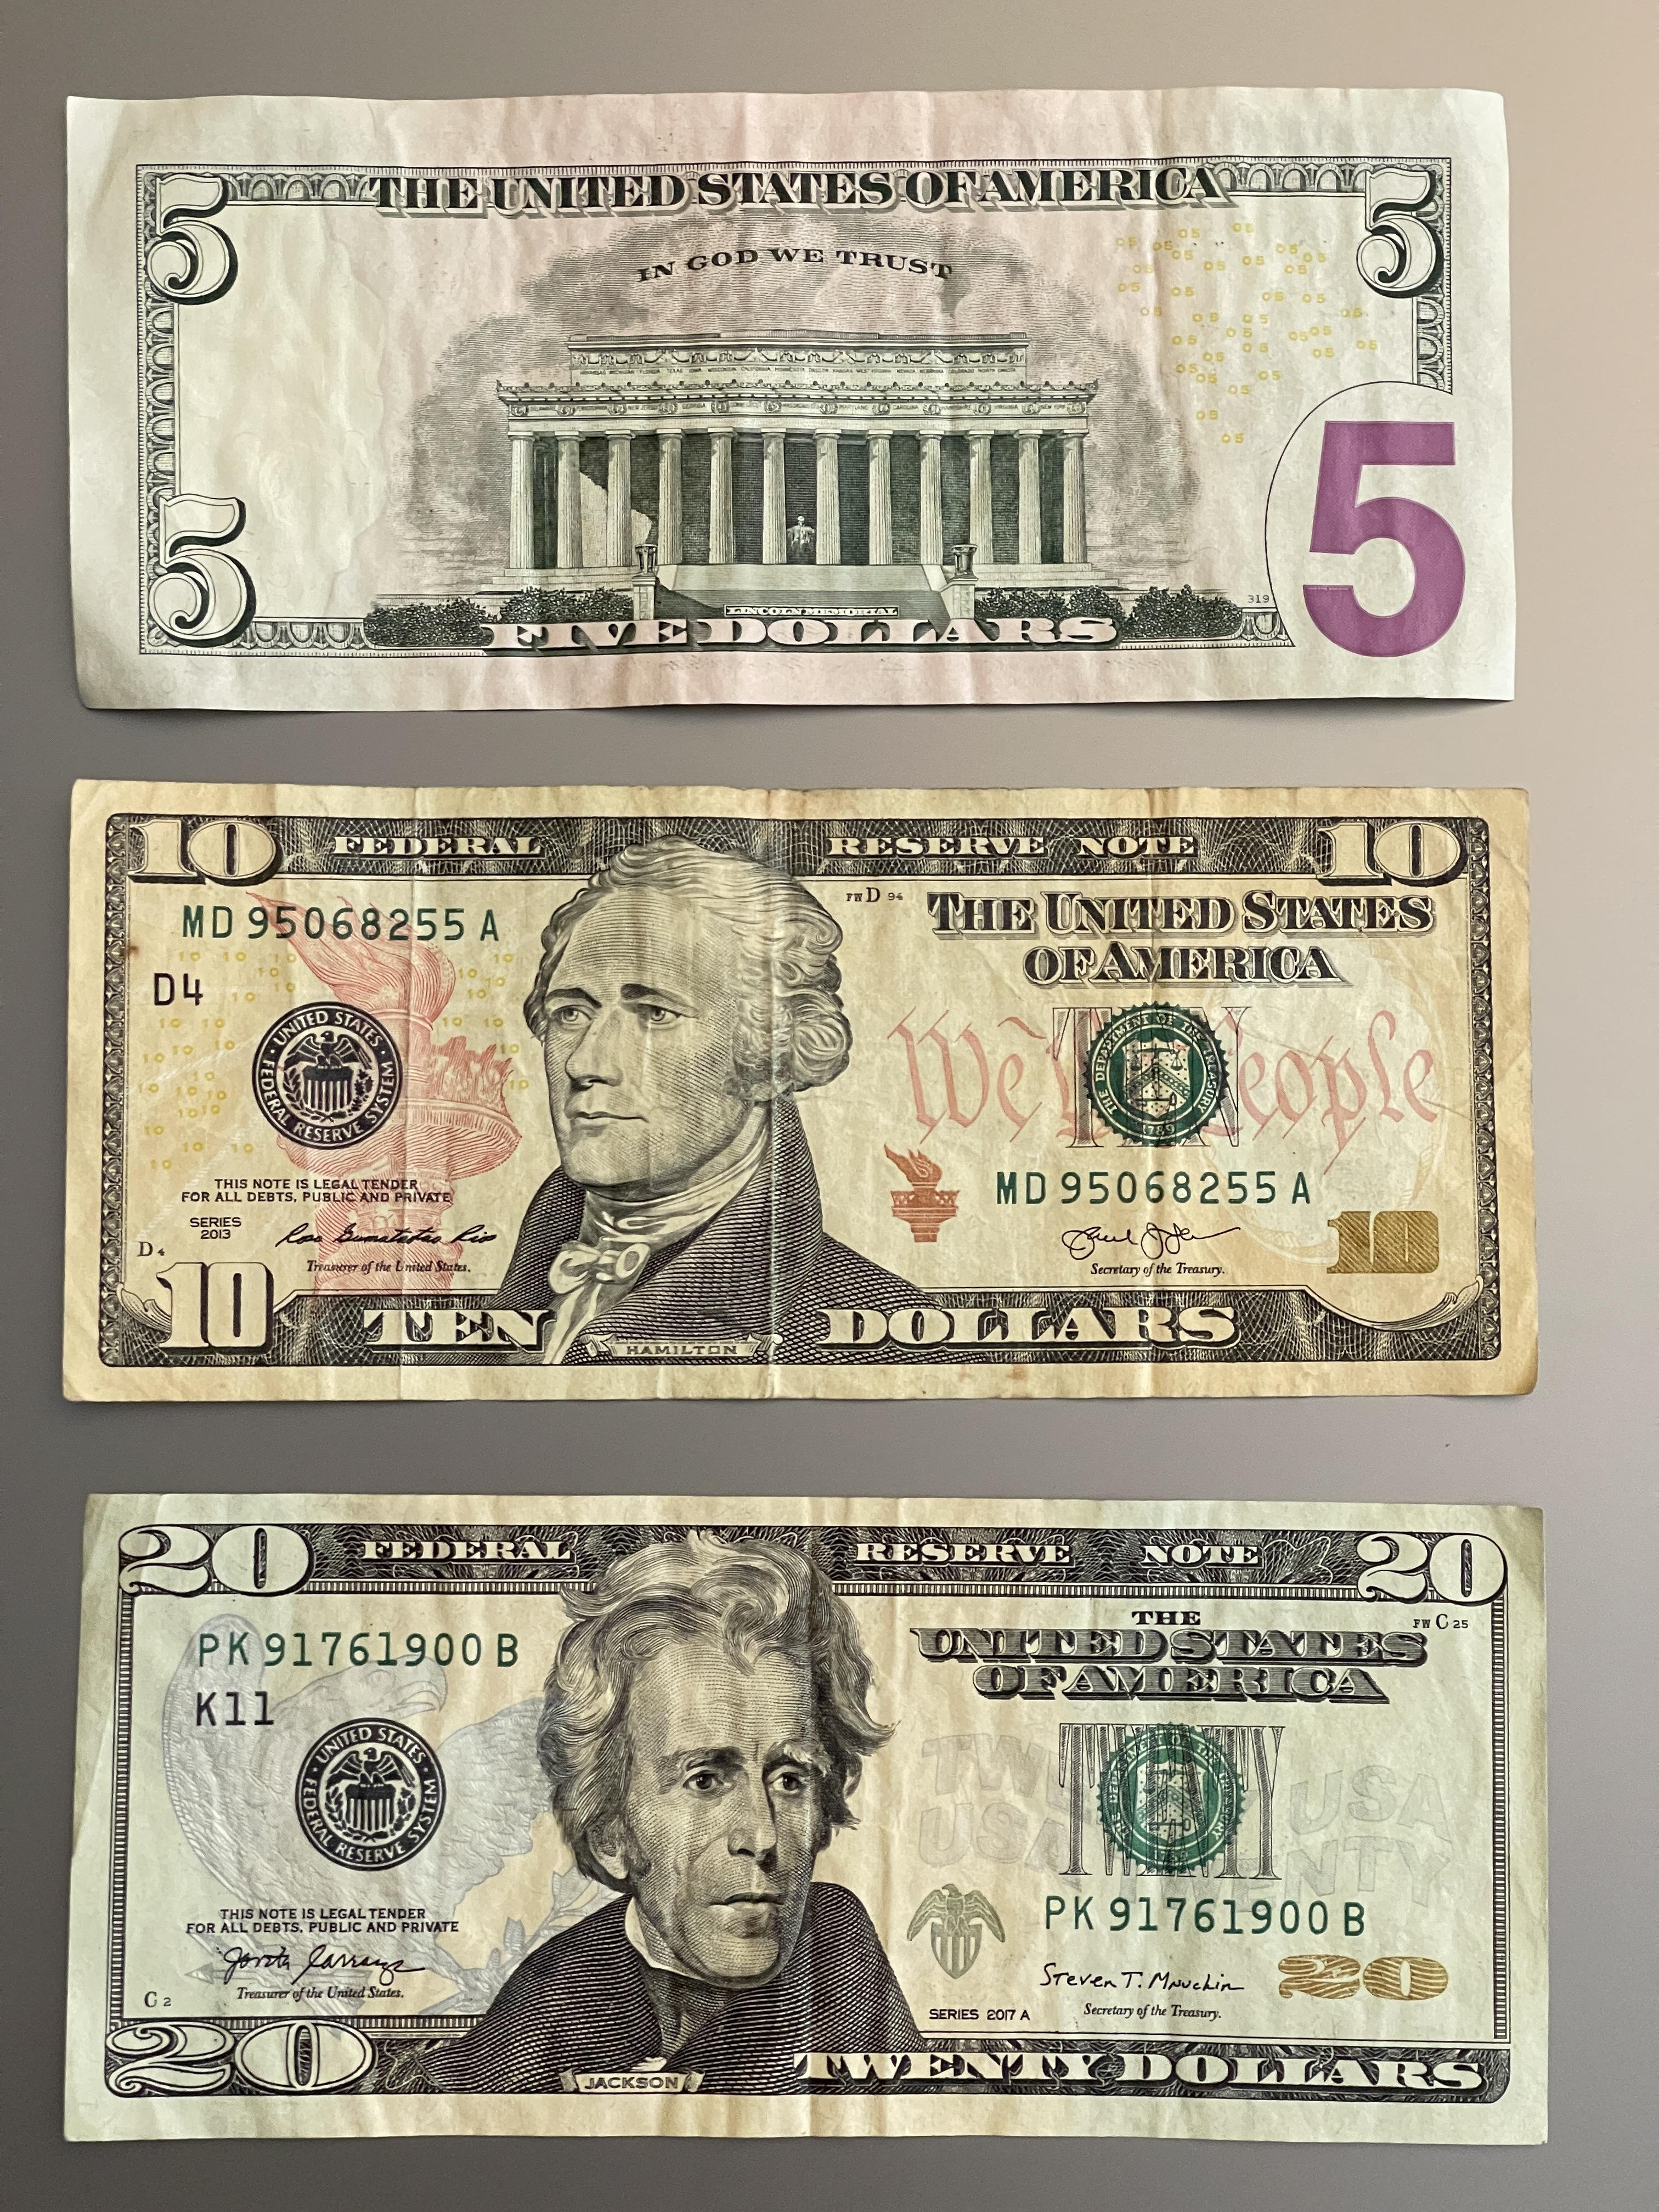FiveBill: (59, 85, 1523, 714)
TenBill: (56, 773, 1544, 1409)
TwentyBill: (58, 1486, 1553, 2156)
